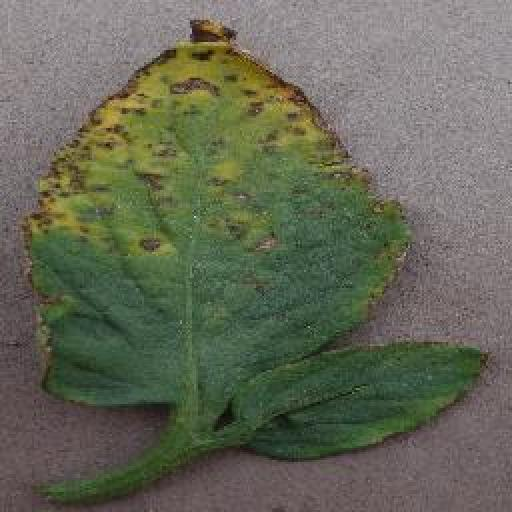Bacterial Spot: (20, 14, 489, 462)
